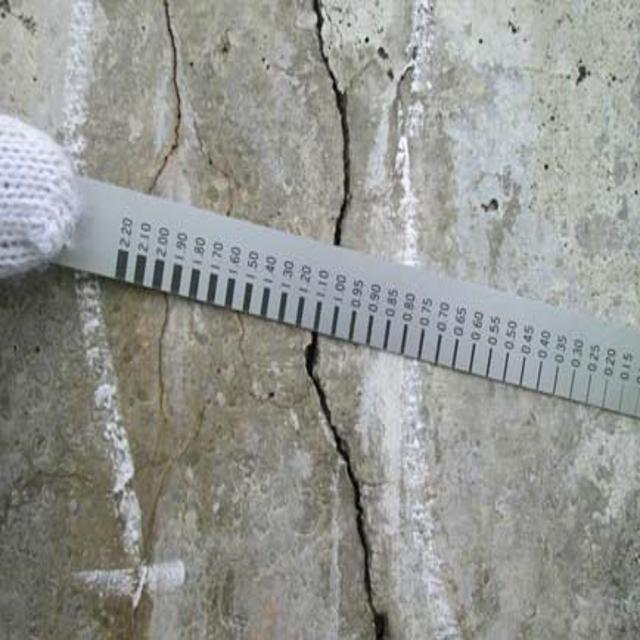crack: (290, 334, 396, 637), (136, 296, 193, 557), (300, 9, 360, 244), (137, 2, 204, 198)
